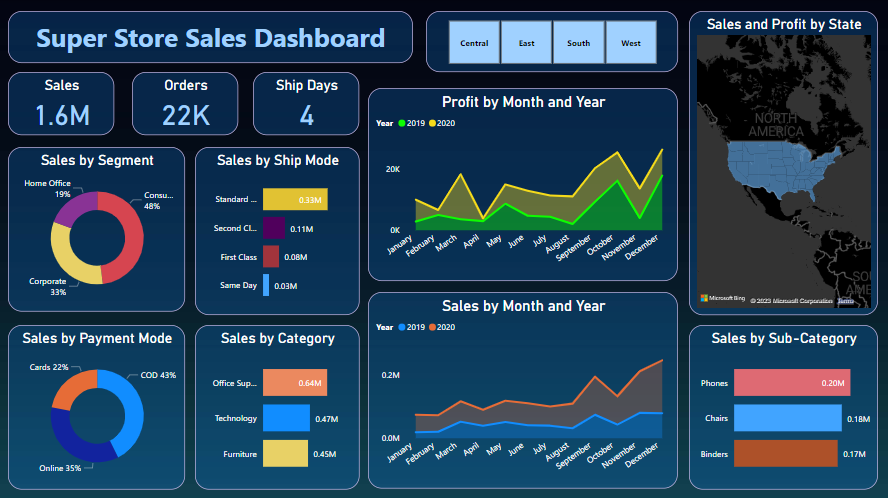

What the dashboard file says about the page in this screenshot:
{"tool":"powerbi","page":{"name":"Sales Dashboard","canvas":[1280,720],"ordinal":0},"visuals":[{"type":"clusteredBarChart","title":" Sales by Category","fields":{"Category":["SuperStore_Sales_Dataset.Category"],"Y":["Sum(SuperStore_Sales_Dataset.Sales)"]},"box":[282,467.7,236.7,236.7],"z":0},{"type":"clusteredBarChart","title":" Sales by Sub-Category","fields":{"Y":["Sum(SuperStore_Sales_Dataset.Sales)"],"Category":["SuperStore_Sales_Dataset.Sub-Category"]},"box":[993.5,467.7,272.1,236.7],"z":1000},{"type":"clusteredBarChart","title":" Sales by Ship Mode","fields":{"Y":["Sum(SuperStore_Sales_Dataset.Sales)"],"Category":["SuperStore_Sales_Dataset.Ship Mode"]},"box":[282,211.2,236.7,242.4],"z":2000},{"type":"stackedAreaChart","title":" Sales by Month and Year","fields":{"Y":["Sum(SuperStore_Sales_Dataset.Sales)"],"Category":["SuperStore_Sales_Dataset.Order Date.Variation.Date Hierarchy.Month","SuperStore_Sales_Dataset.Order Date.Variation.Date Hierarchy.Day"],"Series":["SuperStore_Sales_Dataset.Order Date.Variation.Date Hierarchy.Year"]},"box":[531.5,420.9,446.5,283.5],"z":3000},{"type":"stackedAreaChart","title":"Profit by Month and Year","fields":{"Category":["SuperStore_Sales_Dataset.Order Date.Variation.Date Hierarchy.Month","SuperStore_Sales_Dataset.Order Date.Variation.Date Hierarchy.Day"],"Series":["SuperStore_Sales_Dataset.Order Date.Variation.Date Hierarchy.Year"],"Y":["Sum(SuperStore_Sales_Dataset.Profit)"]},"box":[531.5,126.1,446.5,277.8],"z":4000},{"type":"filledMap","title":" Sales and  Profit by State","fields":{"Category":["SuperStore_Sales_Dataset.State"]},"box":[993.5,15.6,272.1,438],"z":5000},{"type":"donutChart","title":" Sales by Segment","fields":{"Category":["SuperStore_Sales_Dataset.Segment"],"Y":["Sum(SuperStore_Sales_Dataset.Sales)"]},"box":[12.8,211.2,255.1,236.7],"z":6000},{"type":"donutChart","title":" Sales by Payment Mode","fields":{"Y":["Sum(SuperStore_Sales_Dataset.Sales)"],"Category":["SuperStore_Sales_Dataset.Payment Mode"]},"box":[12.8,467.7,255.1,236.7],"z":7000},{"type":"slicer","fields":{"Values":["SuperStore_Sales_Dataset.Region"]},"box":[615.1,15.6,362.8,87.9],"z":8000},{"type":"textbox","box":[12.8,15.6,582.5,75.1],"z":9000},{"type":"card","title":"Sales","fields":{"Values":["Sum(SuperStore_Sales_Dataset.Sales)"]},"box":[12.8,103.5,153.1,90.7],"z":10000},{"type":"card","title":"Orders","fields":{"Values":["Sum(SuperStore_Sales_Dataset.Quantity)"]},"box":[191.3,103.5,153.1,90.7],"z":11000},{"type":"card","title":"Ship Days","fields":{"Values":["Avg(SuperStore_Sales_Dataset.Average Delivery)"]},"box":[365.7,103.5,153.1,90.7],"z":12000}]}

Visuals, with their boxes in screenshot pixels (x1, y1, x2, y2), scaled from the page's 1280x720 canvas onto the 888x498 screenshot:
" Sales by Category" clusteredBarChart: 196 323 360 487
" Sales by Sub-Category" clusteredBarChart: 689 323 878 487
" Sales by Ship Mode" clusteredBarChart: 196 146 360 314
" Sales by Month and Year" stackedAreaChart: 369 291 678 487
"Profit by Month and Year" stackedAreaChart: 369 87 678 279
" Sales and  Profit by State" filledMap: 689 11 878 314
" Sales by Segment" donutChart: 9 146 186 310
" Sales by Payment Mode" donutChart: 9 323 186 487
slicer - SuperStore_Sales_Dataset.Region: 427 11 678 72
textbox: 9 11 413 63
"Sales" card: 9 72 115 134
"Orders" card: 133 72 239 134
"Ship Days" card: 254 72 360 134
